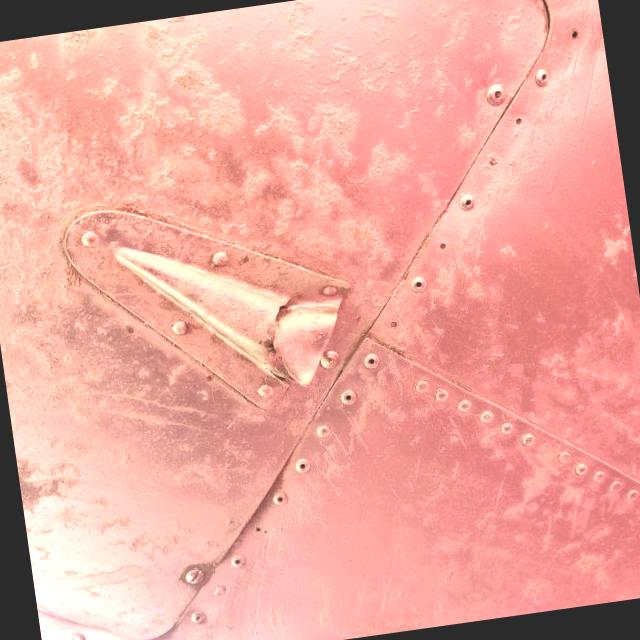Missing Fastener: (427, 236, 457, 260), (250, 511, 270, 546), (382, 306, 404, 336), (562, 26, 587, 42), (508, 113, 530, 130)
